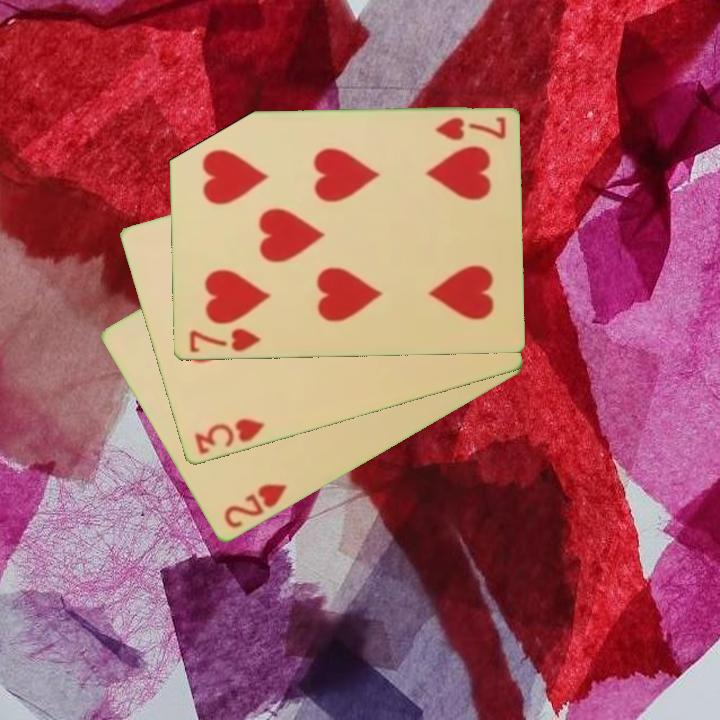2h: (220, 480, 290, 532)
3h: (190, 415, 267, 458)
7h: (186, 325, 263, 356), (431, 114, 508, 144)
